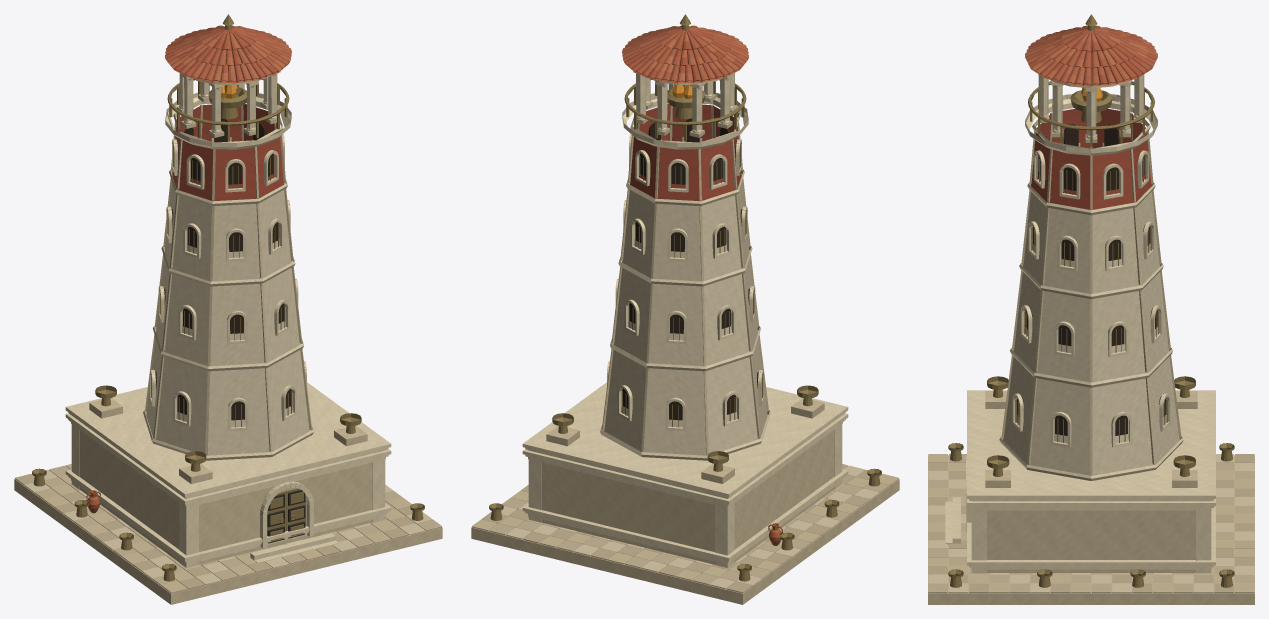
File: leuchtturm.glb
3 renders of one model, left to right at view 1: azimuth 30°, elevation 25°; view 2: azimuth 150°, elevation 25°; view 3: azimuth 270°, elevation 25°, orthographic. The views are drawn at different scales.
Visible parts, largest first — view 1: Limewash.005, Limestone_trim.005, Limestone_trim.001, Travertine.005, Travertine.001, Pompeian_red.005, Bronze.005, Interior_shadow.005, Paving_0.005, Limestone_trim.002, Tile_0.005, Paving_1.001 (+13 smaller); view 2: Limewash.005, Travertine.001, Limestone_trim.005, Limestone_trim.001, Travertine.005, Pompeian_red.005, Bronze.005, Interior_shadow.005, Limestone_trim.002, Tile_0.005, Paving_3.005, Paving_1.005 (+13 smaller); view 3: Limewash.005, Limestone_trim.005, Travertine.005, Limestone_trim.001, Travertine.001, Pompeian_red.005, Bronze.005, Interior_shadow.005, Tile_0.005, Limestone_trim.002, Paving_2.005, Paving_1.005 (+13 smaller).
Part boxes in pixels (x1,y1,x2,y2): Limewash.005: (146, 176, 310, 455); Limestone_trim.005: (66, 74, 390, 567); Limestone_trim.001: (65, 71, 391, 567); Travertine.005: (15, 96, 372, 602); Travertine.001: (14, 94, 442, 604); Pompeian_red.005: (172, 104, 284, 201); Bronze.005: (32, 21, 424, 581); Interior_shadow.005: (155, 118, 291, 420); Paving_0.005: (44, 464, 410, 593); Limestone_trim.002: (144, 73, 312, 430); Tile_0.005: (165, 25, 291, 82); Paving_1.001: (15, 474, 414, 587); Limewash.005: (603, 176, 767, 455); Travertine.001: (471, 94, 899, 604); Limestone_trim.005: (523, 73, 847, 567); Limestone_trim.001: (522, 71, 848, 567); Travertine.005: (473, 97, 897, 602); Pompeian_red.005: (629, 104, 741, 201); Bronze.005: (489, 21, 881, 581); Interior_shadow.005: (622, 118, 758, 420); Limestone_trim.002: (601, 72, 769, 430); Tile_0.005: (622, 25, 748, 82); Paving_3.005: (489, 464, 888, 584); Paving_1.005: (482, 470, 869, 593); Limewash.005: (1003, 191, 1179, 475); Limestone_trim.005: (946, 80, 1215, 570); Travertine.005: (948, 102, 1234, 592); Limestone_trim.001: (945, 81, 1215, 573); Travertine.001: (928, 100, 1254, 604); Pompeian_red.005: (1031, 109, 1151, 209); Bronze.005: (948, 21, 1234, 587); Interior_shadow.005: (1016, 124, 1166, 435); Tile_0.005: (1025, 26, 1156, 83); Limestone_trim.002: (1000, 74, 1182, 439); Paving_2.005: (928, 454, 1254, 592); Paving_1.005: (928, 454, 1254, 592).
Size of the model in its own units: 14 by 24.66 by 14.
Materials: 19 (5 with a texture image).
